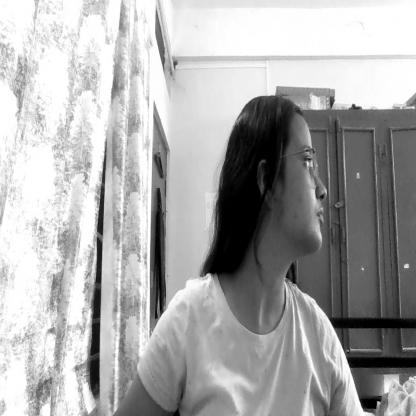Distracted: (215, 91, 330, 271)
